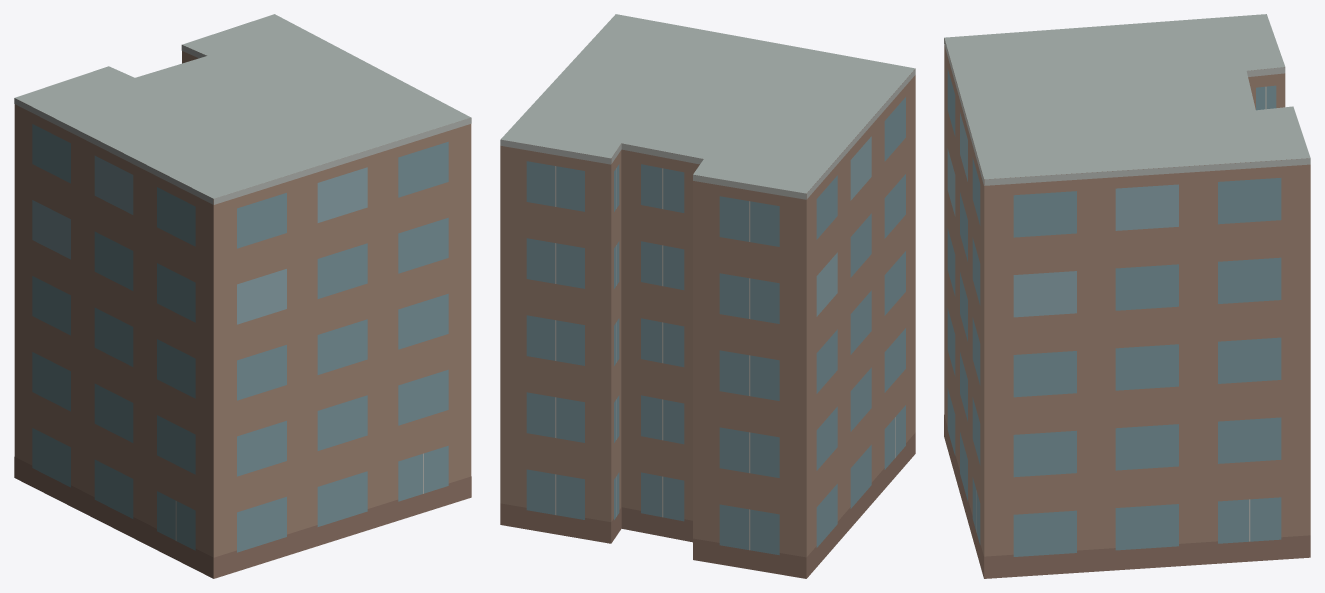
File: survey-upis-32576750.glb
3 views of the same model, side by side, from view 1: azimuth 30°, elevation 25°; view 2: azimuth 150°, elevation 25°; view 3: azimuth 270°, elevation 25° (orthographic). The views are drawn at different scales.
Parts seen in each view (by area): view 1: survey-upis-32576750.tmp; view 2: survey-upis-32576750.tmp; view 3: survey-upis-32576750.tmp.
Boxes of the visible parts, box(x1,y1,x2,y2) form: survey-upis-32576750.tmp: box(14, 14, 471, 578); survey-upis-32576750.tmp: box(500, 14, 915, 578); survey-upis-32576750.tmp: box(944, 14, 1310, 578).
Bounding box in the file's own units: 13.51 × 15.2 × 12.65.
